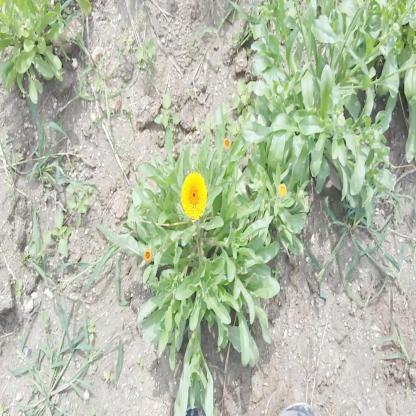marigold: (182, 172, 208, 218)
